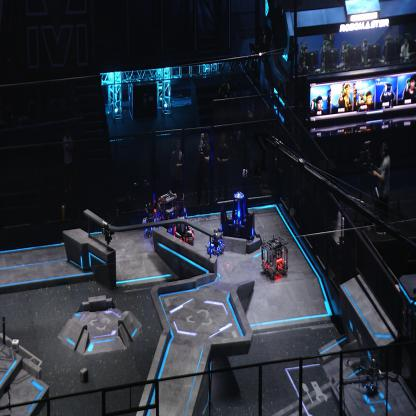car: (261, 234, 289, 280), (156, 191, 178, 234), (172, 214, 196, 247), (167, 198, 188, 234), (206, 228, 225, 257), (143, 209, 160, 236)
